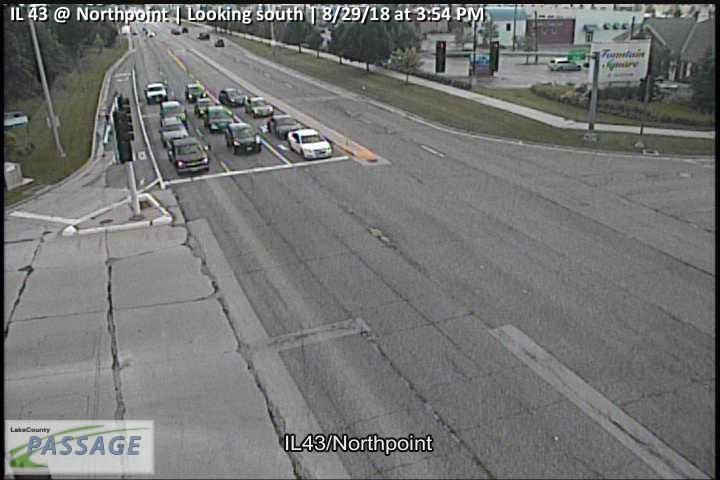Sedan: (167, 136, 209, 176), (287, 126, 332, 160), (222, 120, 263, 156), (265, 113, 301, 141), (202, 104, 234, 131), (156, 121, 189, 144), (160, 99, 188, 124), (243, 96, 274, 118), (142, 78, 168, 102), (218, 86, 246, 108), (183, 82, 207, 102), (195, 96, 219, 114)
